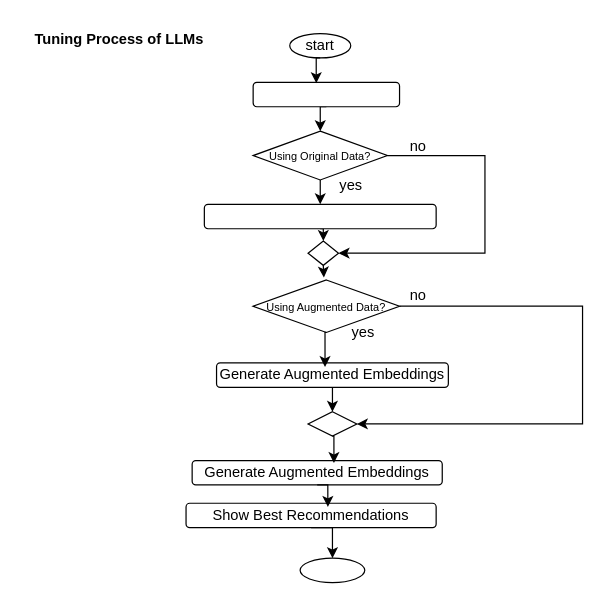
Some shapes in this 614 by 604 pixel diagram are drawn without their labels. The shapes that lost their labels are listed below. From the top down, each one's centre as x and y in pixels, then its label:
point 326,94: start tuning
point 319,216: generate Basic Embeddings
point 332,570: end
